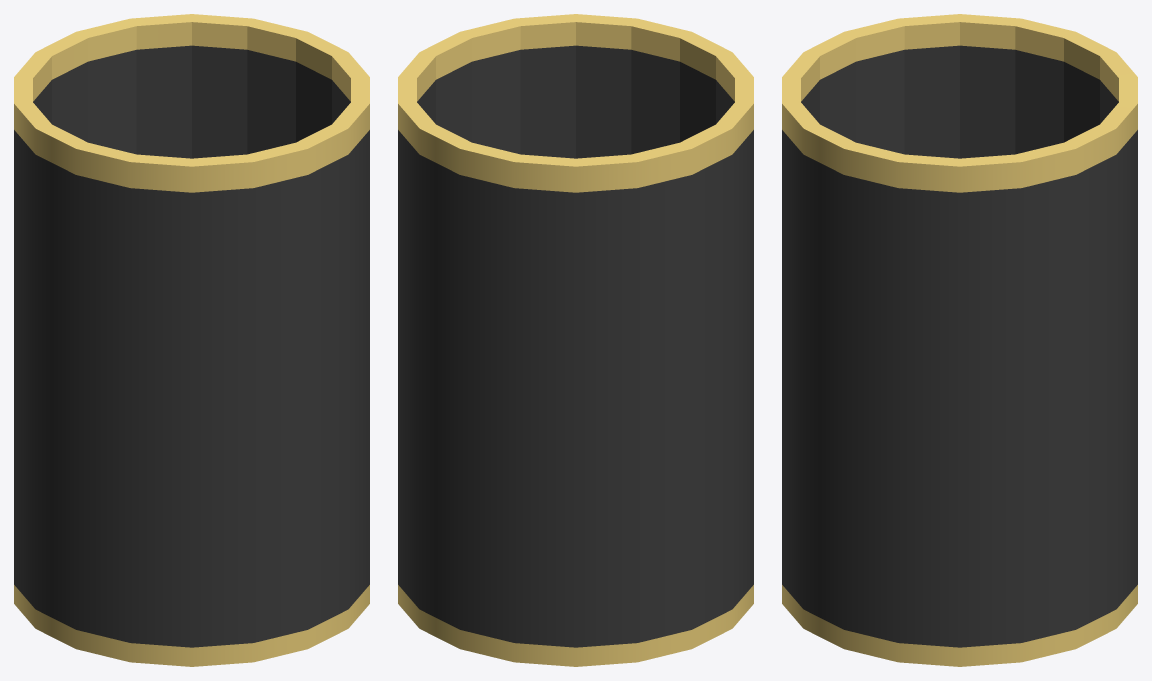
Rendered from bin.FBX.
3 renders of one model, left to right at view 1: azimuth 30°, elevation 25°; view 2: azimuth 150°, elevation 25°; view 3: azimuth 270°, elevation 25°, orthographic.
Visible parts, largest first — view 1: bin; view 2: bin; view 3: bin.
Boxes of the visible parts, x1,y1,x2,y2 form: bin: (14,14,369,666); bin: (398,14,753,666); bin: (782,14,1137,666).
Size of the model in its own units: 10.49 by 16.02 by 10.33.
